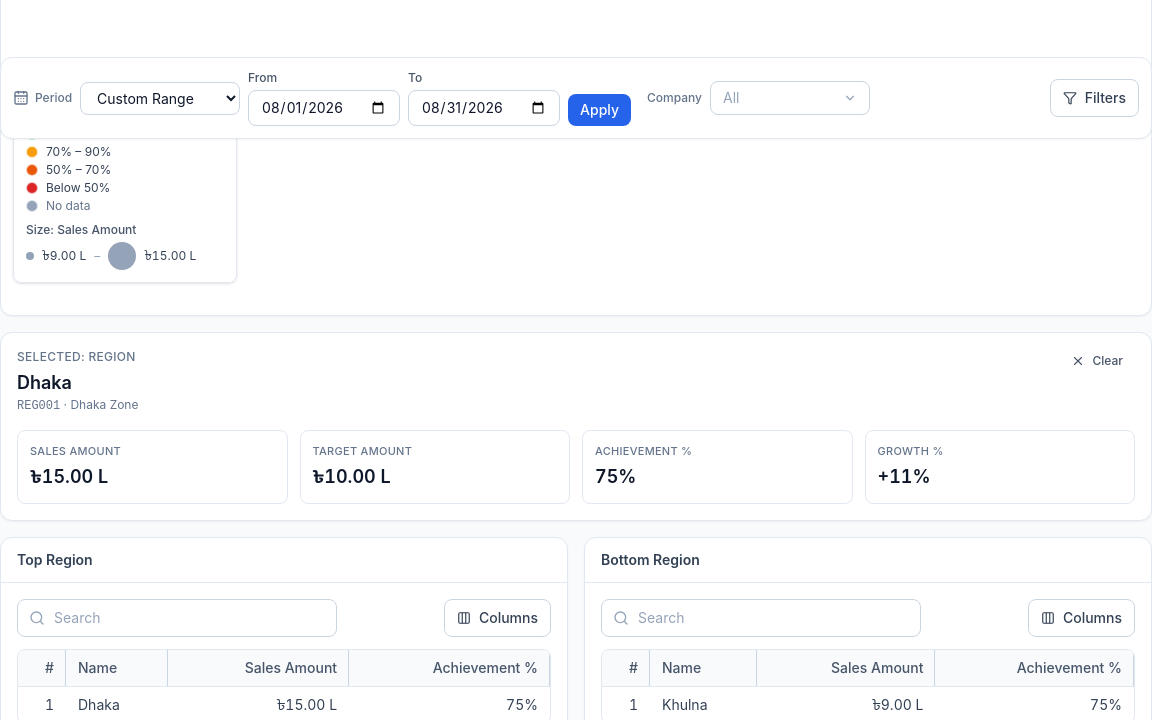
Test: Business Map page › selects a point on click, shows its figures and ancestry, and remembers it in the URL
(page scrolled)
Expected: the text "Select a point on the map, or a row in the tables below, to see its figures." is shown, [0,332,1151,521]
Expected: the heading "Dhaka" is shown, [17,372,72,393]
What coordinates should you click on to do the following:
click the button "Clear"
I would click on:
 (1097, 361)
Its box is [1058,349,1135,373].
(page scrolled)
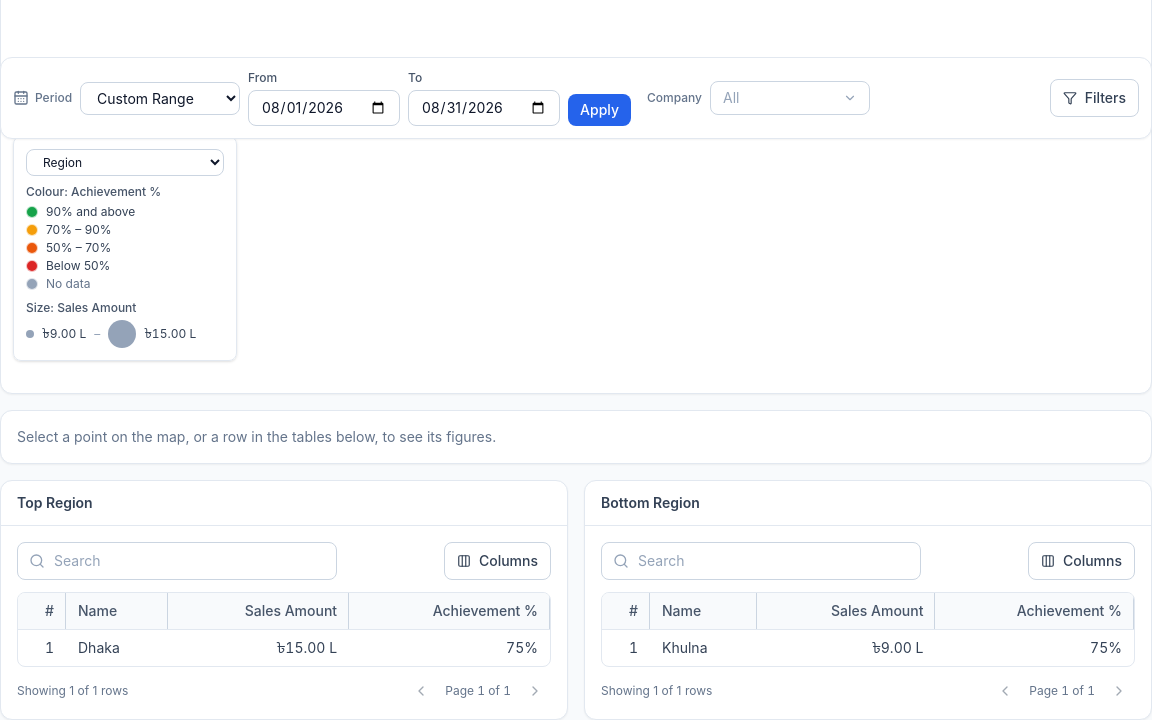
Expected: the text "Select a point on the map" is shown, [17,428,496,445]
